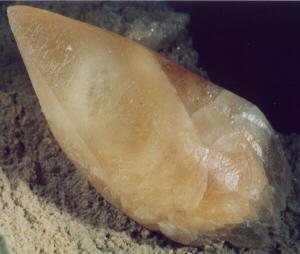calcite: (8, 7, 292, 248)
